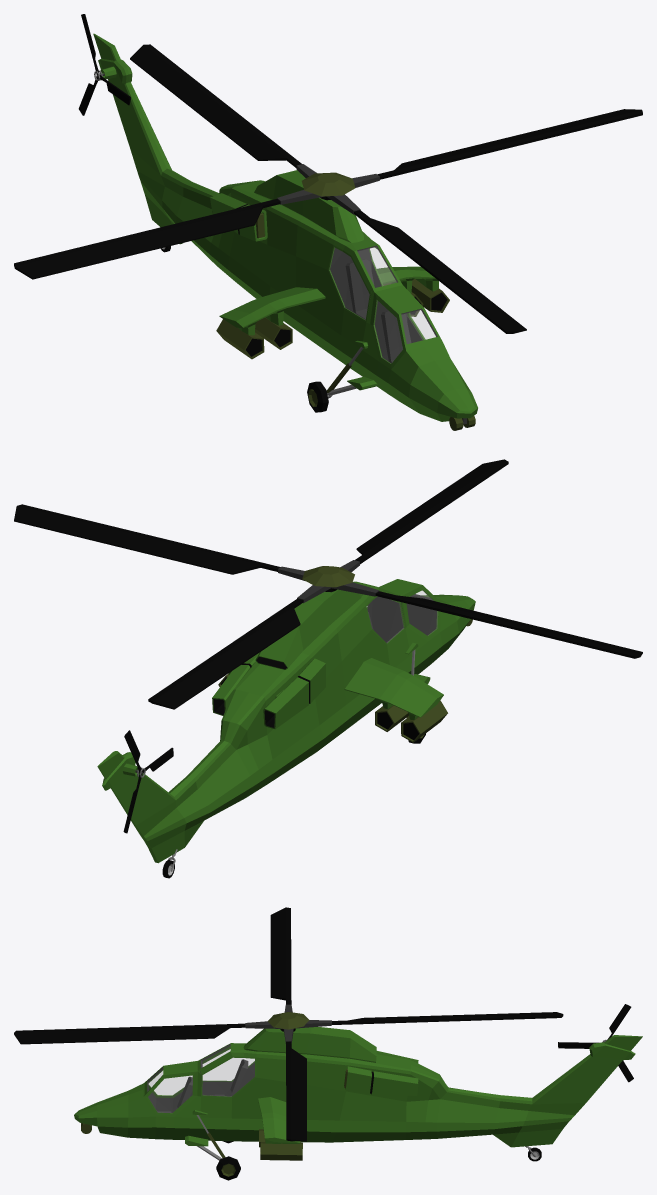
The picture shows the model from 3 angles, top to bottom: view 1: azimuth 30°, elevation 25°; view 2: azimuth 150°, elevation 25°; view 3: azimuth 270°, elevation 25°; orthographic projection. The views are drawn at different scales.
Visible parts, largest first — view 1: Circle.014, Circle.015, Circle.019, Circle.020, Landing gear _F.002, Circle.016; view 2: Circle.014, Circle.015, Circle.019, Circle.020, Circle.016; view 3: Circle.014, Circle.015, Circle.017, Circle.018, Circle.019, Landing gear _F.002, Circle.016, Circle.020.
Boxes of the visible parts, x1,y1,x2,y2 form: Circle.014: (93,33,477,430); Circle.015: (14,44,642,333); Circle.019: (328,240,372,322); Circle.020: (370,292,405,369); Landing gear _F.002: (307,347,363,412); Circle.016: (78,14,130,115); Circle.014: (97,579,475,863); Circle.015: (14,459,642,709); Circle.019: (364,587,405,645); Circle.020: (402,585,440,641); Circle.016: (123,730,173,833); Circle.014: (74,1027,642,1160); Circle.015: (14,907,563,1141); Circle.017: (200,1052,256,1097); Circle.018: (144,1071,197,1116); Circle.019: (202,1046,254,1081); Landing gear _F.002: (196,1115,240,1180); Circle.016: (558,1004,633,1082); Circle.020: (148,1069,192,1097).
Size of the model in its own units: 1429 by 429 by 1635.
